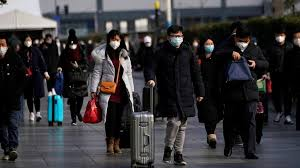mask: (234, 27, 249, 52), (169, 26, 183, 47), (106, 30, 122, 48), (202, 35, 214, 53), (274, 27, 286, 44), (22, 33, 34, 49), (66, 37, 78, 51), (142, 35, 152, 48), (292, 28, 299, 46), (12, 40, 21, 53), (1, 38, 7, 56), (44, 34, 52, 44), (191, 39, 199, 49), (33, 36, 39, 46)
